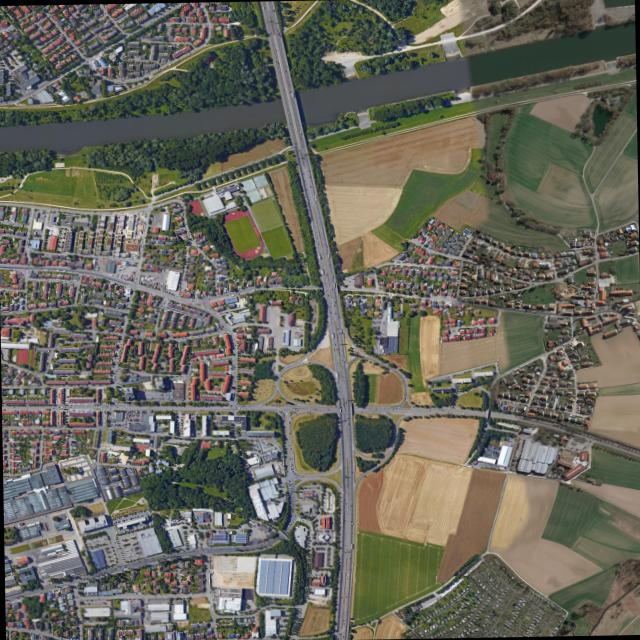large-vehicle: (315, 195, 318, 200), (303, 361, 310, 363), (117, 267, 124, 269), (124, 567, 128, 570), (148, 277, 154, 279), (157, 204, 161, 207), (42, 268, 48, 270), (336, 372, 338, 377), (328, 252, 330, 257), (318, 253, 320, 258), (332, 333, 334, 338), (333, 282, 335, 287), (144, 275, 149, 277), (150, 276, 155, 278), (292, 93, 294, 97), (340, 328, 342, 332), (251, 289, 255, 291), (231, 294, 235, 296), (147, 279, 151, 281), (140, 277, 144, 279), (140, 276, 144, 278), (278, 33, 280, 37), (55, 269, 59, 271), (339, 409, 341, 412), (112, 376, 114, 379), (351, 543, 352, 549), (144, 278, 150, 279), (162, 269, 164, 272), (275, 61, 277, 64), (85, 405, 88, 407), (109, 273, 112, 275), (72, 405, 75, 407), (26, 629, 30, 630), (322, 269, 323, 273), (140, 279, 144, 280), (144, 277, 148, 278), (61, 406, 63, 408), (118, 265, 121, 266), (332, 274, 333, 277), (113, 213, 116, 214), (125, 406, 128, 407), (63, 270, 65, 271), (99, 407, 101, 408)
small-vehicle: (344, 498, 346, 500), (344, 475, 346, 477), (347, 417, 349, 419), (263, 6, 265, 8), (282, 88, 284, 90), (343, 490, 344, 493), (273, 9, 274, 12), (337, 637, 338, 639), (343, 622, 344, 624), (346, 611, 348, 612), (346, 595, 347, 597), (344, 519, 345, 521), (277, 62, 278, 64), (348, 551, 349, 553), (349, 557, 350, 559), (300, 131, 302, 132), (300, 137, 301, 139), (342, 636, 343, 637), (341, 596, 342, 597), (345, 531, 346, 532), (345, 503, 346, 504), (295, 143, 296, 144), (300, 163, 301, 164), (288, 84, 289, 85), (340, 633, 340, 634)
